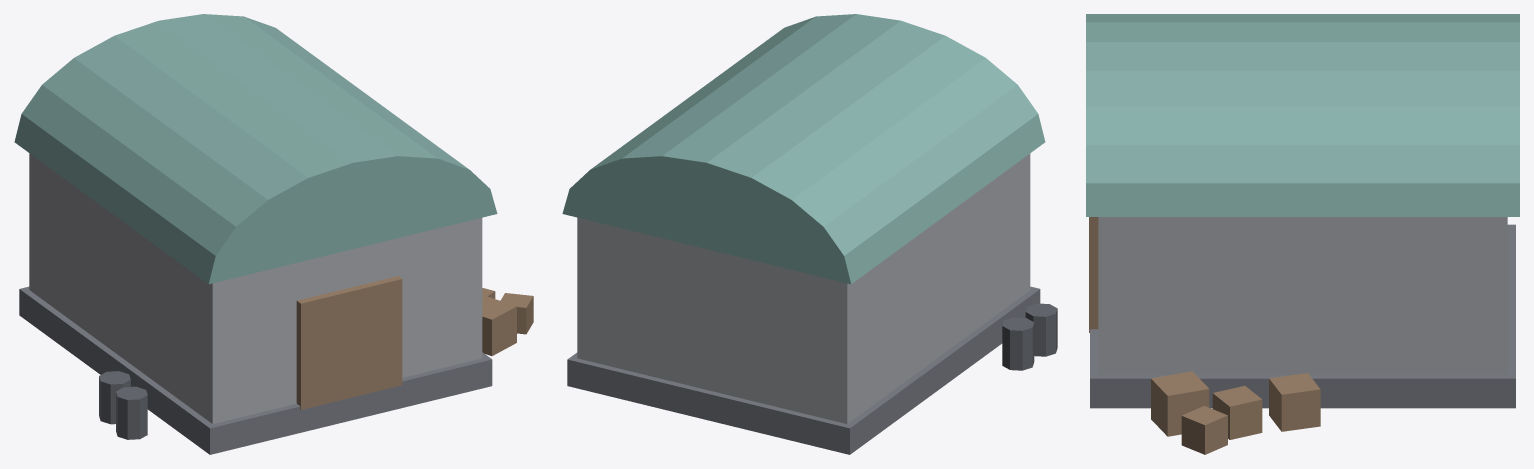
File: warehouse.glb
3 renders of one model, left to right at view 1: azimuth 30°, elevation 25°; view 2: azimuth 150°, elevation 25°; view 3: azimuth 270°, elevation 25°, orthographic. The views are drawn at different scales.
Visible parts, largest first — view 1: warehouse; view 2: warehouse; view 3: warehouse.
Part boxes in pixels (x1=…): warehouse: x1=14, y1=14, x2=533, y2=454; warehouse: x1=562, y1=14, x2=1057, y2=454; warehouse: x1=1086, y1=14, x2=1519, y2=454.
Size of the model in its own units: 13.52 by 7.8 by 10.6.
